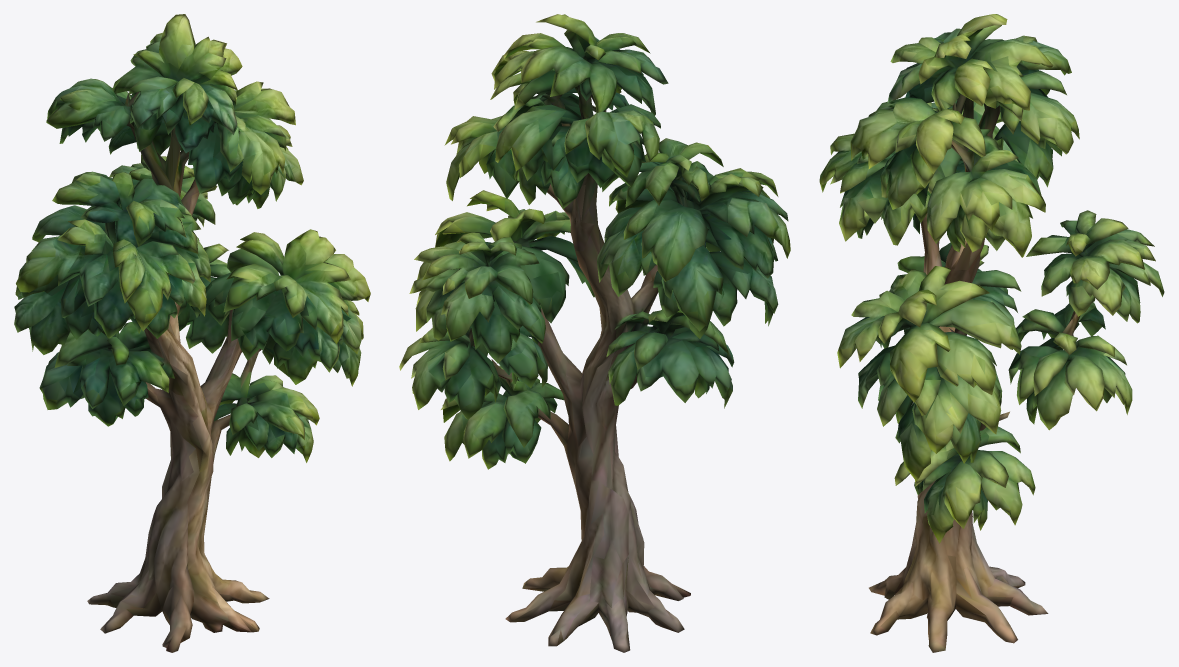
File: forest_tree_b.glb
3 views of the same model, side by side, from view 1: azimuth 30°, elevation 25°; view 2: azimuth 150°, elevation 25°; view 3: azimuth 270°, elevation 25° (orthographic). The views are drawn at different scales.
Parts seen in each view (by area): view 1: tripo_node_01a6f265-875b-4127-9856-84bb9fd0abab; view 2: tripo_node_01a6f265-875b-4127-9856-84bb9fd0abab; view 3: tripo_node_01a6f265-875b-4127-9856-84bb9fd0abab.
Boxes of the visible parts, x1,y1,x2,y2 form: tripo_node_01a6f265-875b-4127-9856-84bb9fd0abab: (14, 14, 370, 652); tripo_node_01a6f265-875b-4127-9856-84bb9fd0abab: (399, 14, 790, 652); tripo_node_01a6f265-875b-4127-9856-84bb9fd0abab: (819, 14, 1164, 652).
Bounding box in the file's own units: 5.04 × 8 × 4.11.
1 material, 1 textured.
